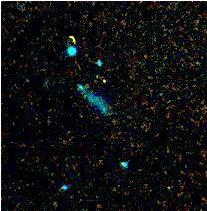star: (88, 68, 118, 98)
